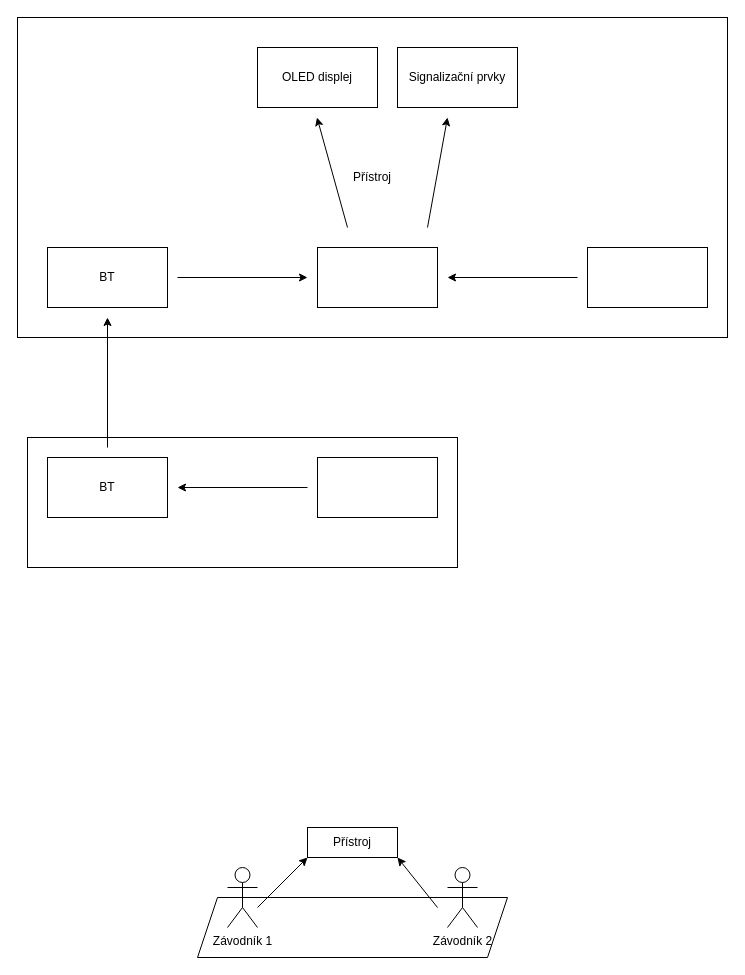
Image size: 745x975. Some labels were removed from this diagram. Each missing label, with the box of its shape:
Arduino mini: (316, 456, 438, 518)
Arduino UNO: (316, 246, 438, 308)
IR ovladač: (586, 246, 708, 308)
Zařízení u závodníka: (26, 436, 458, 568)
